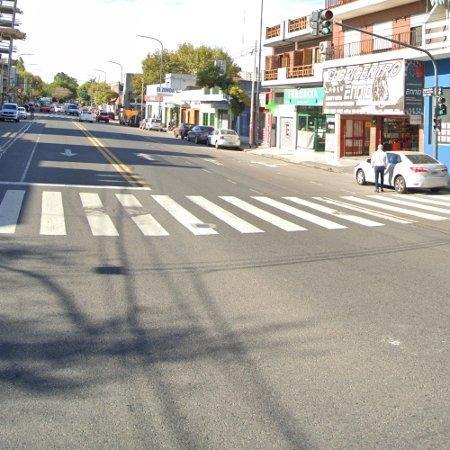crosswalk: (0, 188, 450, 240)
